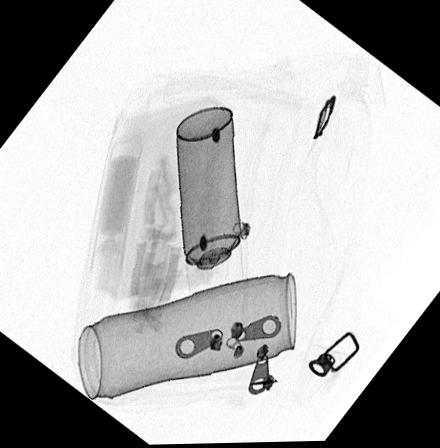Sprayer: (173, 106, 244, 300)
